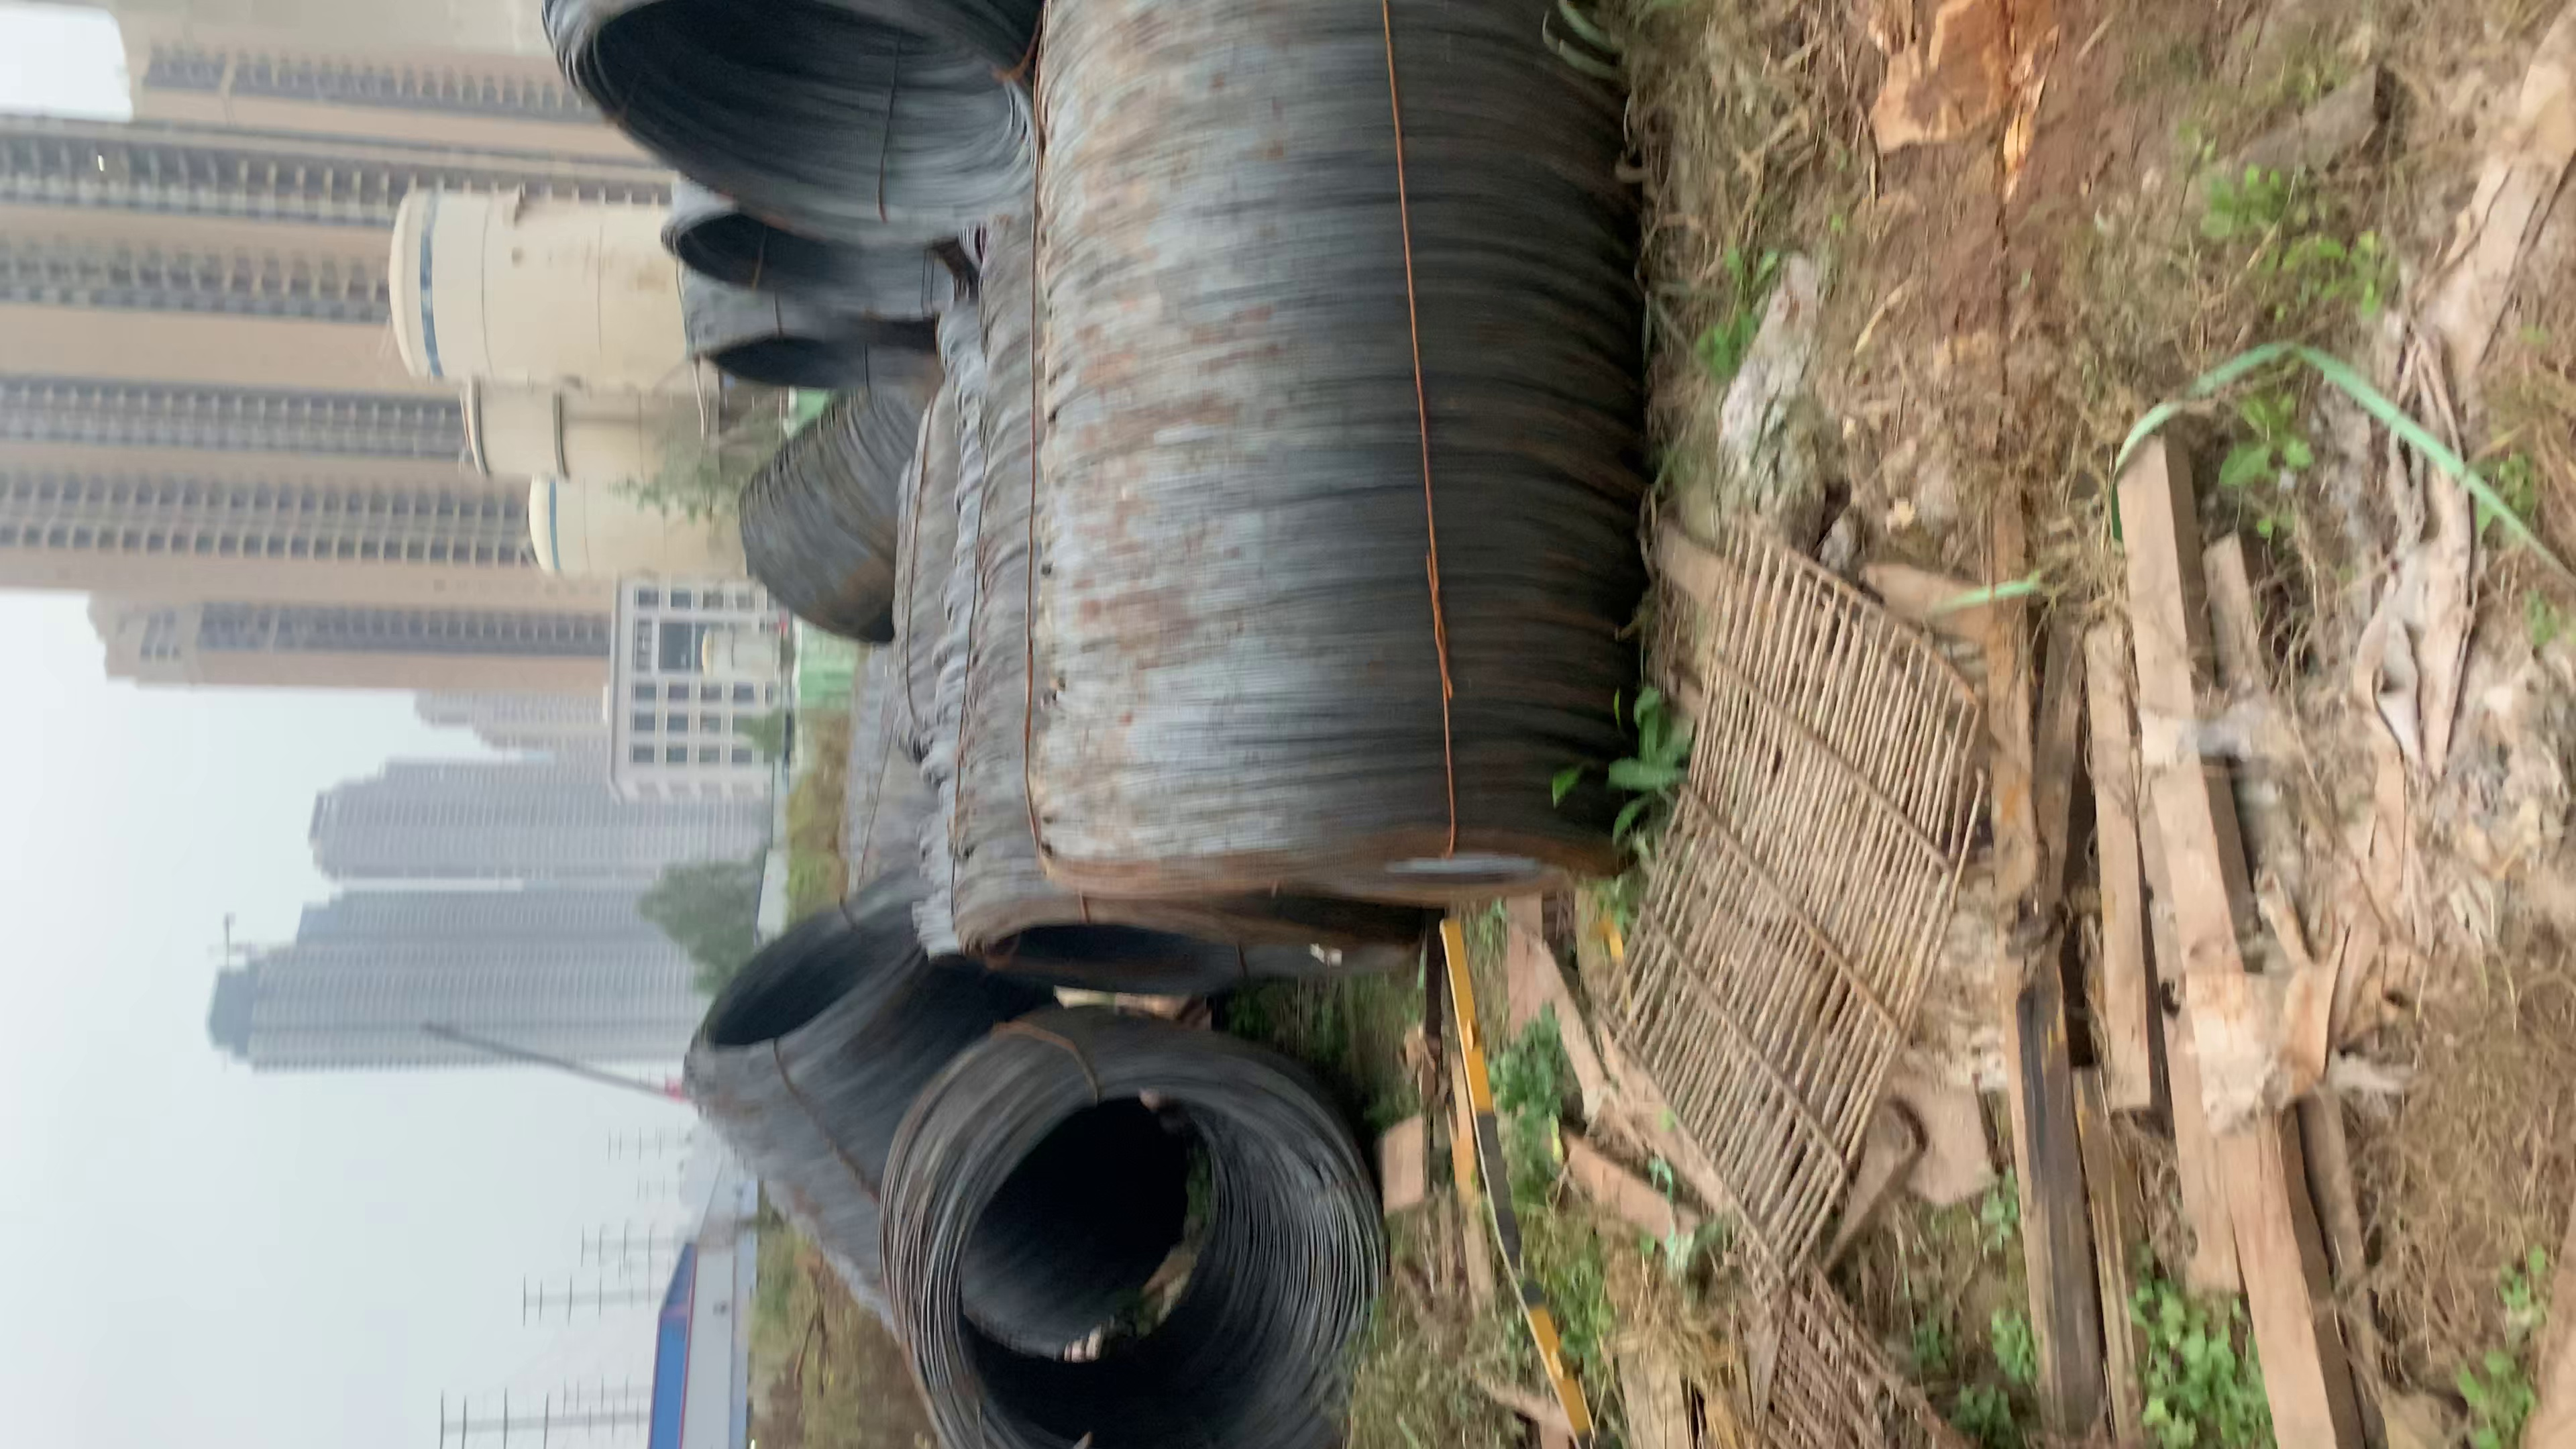coil: (922, 1076, 1376, 1445), (554, 0, 1053, 249), (1063, 819, 1635, 947), (955, 890, 1385, 1024), (679, 872, 948, 1083), (635, 200, 989, 338), (692, 317, 971, 412)
